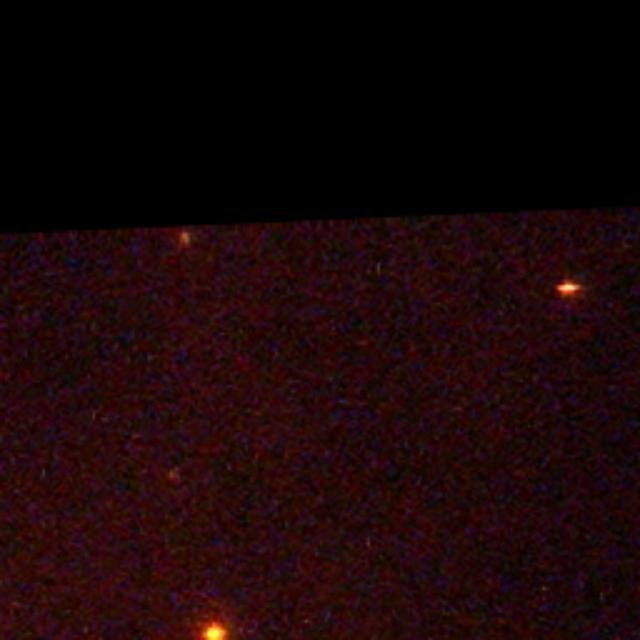Fragment: (554, 277, 584, 297)
microbeads: (195, 615, 238, 639)
